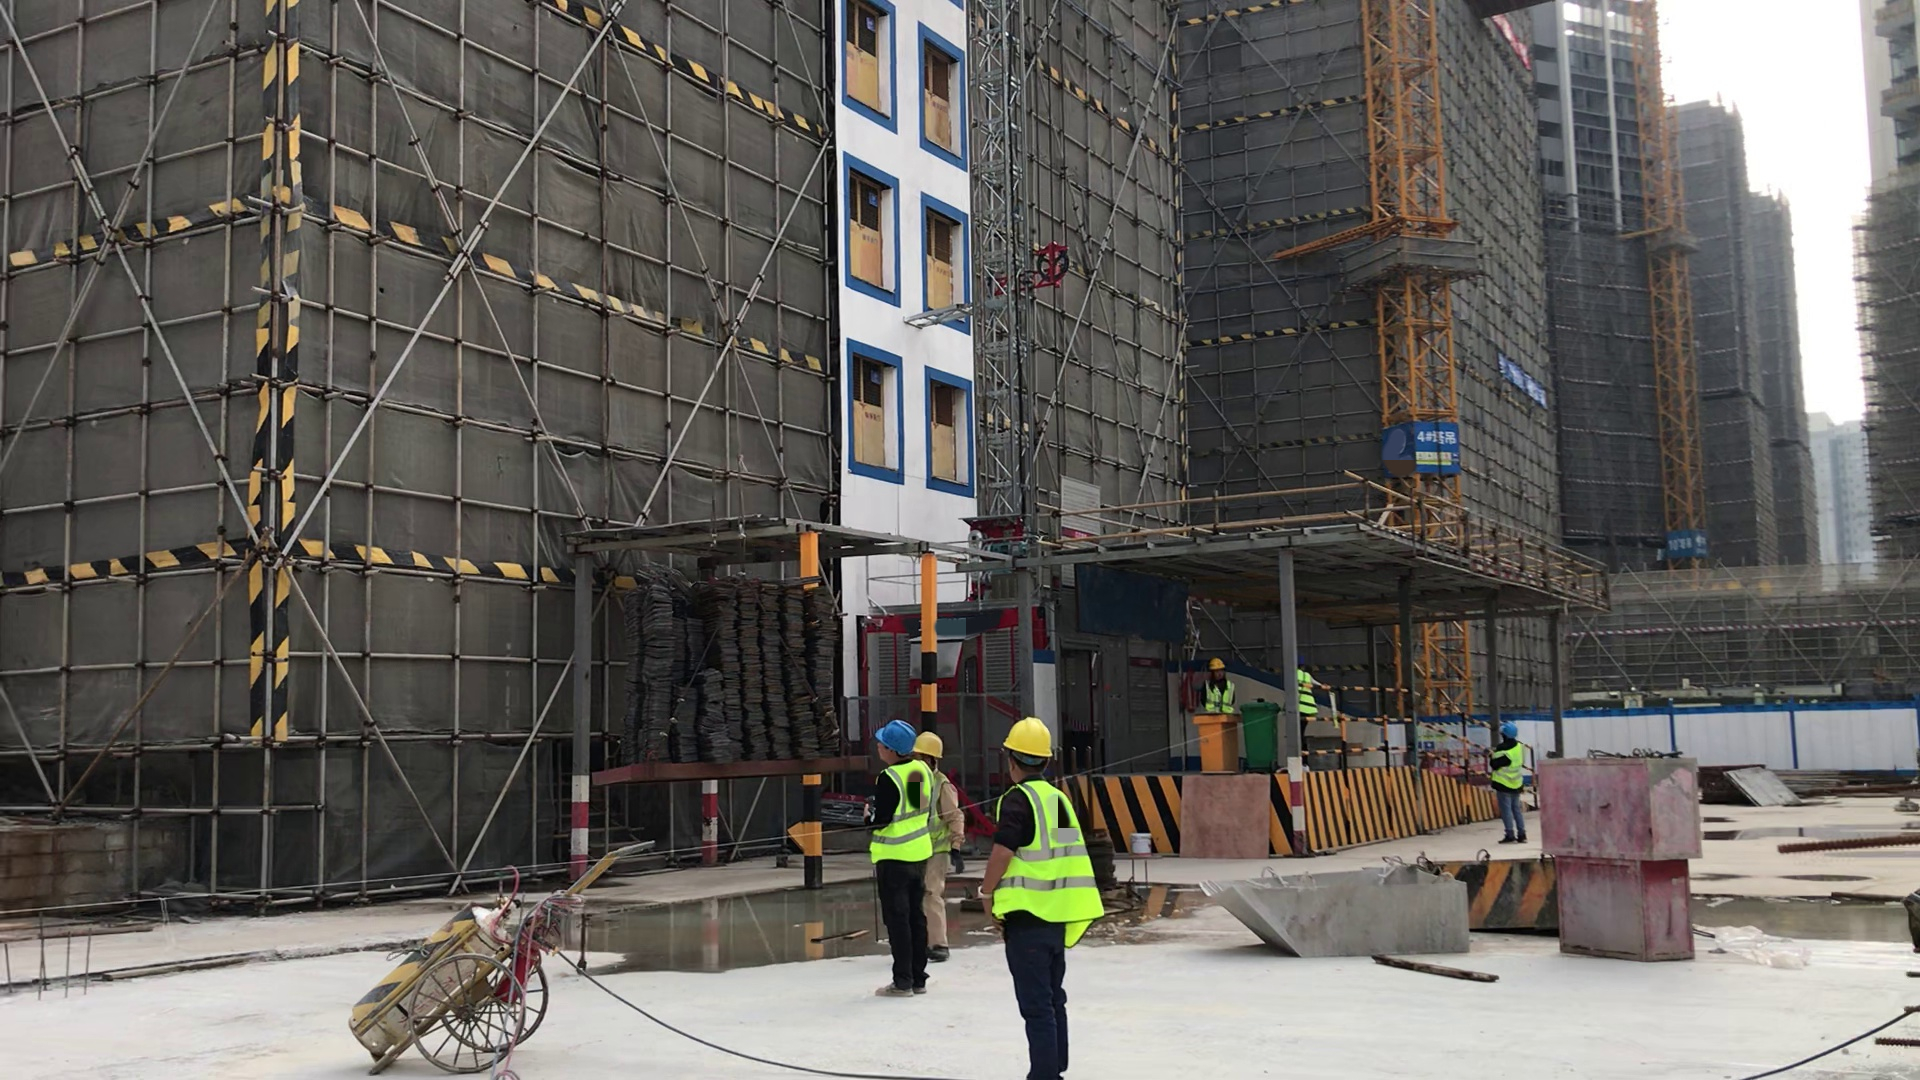fence: (1304, 674, 1504, 791)
handcart: (338, 831, 686, 1080)
helmet: (999, 710, 1057, 767), (864, 711, 911, 760), (909, 727, 949, 764), (1495, 716, 1522, 742), (1205, 652, 1226, 673)
hopper: (1204, 853, 1483, 984)
person: (989, 700, 1128, 1080), (852, 700, 932, 1012), (909, 722, 978, 985), (1478, 706, 1536, 845), (1292, 650, 1332, 743), (1196, 641, 1238, 720)
slogan: (1379, 408, 1472, 497), (1480, 345, 1550, 424), (1649, 519, 1725, 573), (1483, 14, 1540, 78)
vest: (993, 769, 1110, 946), (870, 764, 937, 872), (925, 766, 968, 869), (1486, 740, 1530, 795), (1200, 675, 1237, 716), (1293, 666, 1320, 719)
